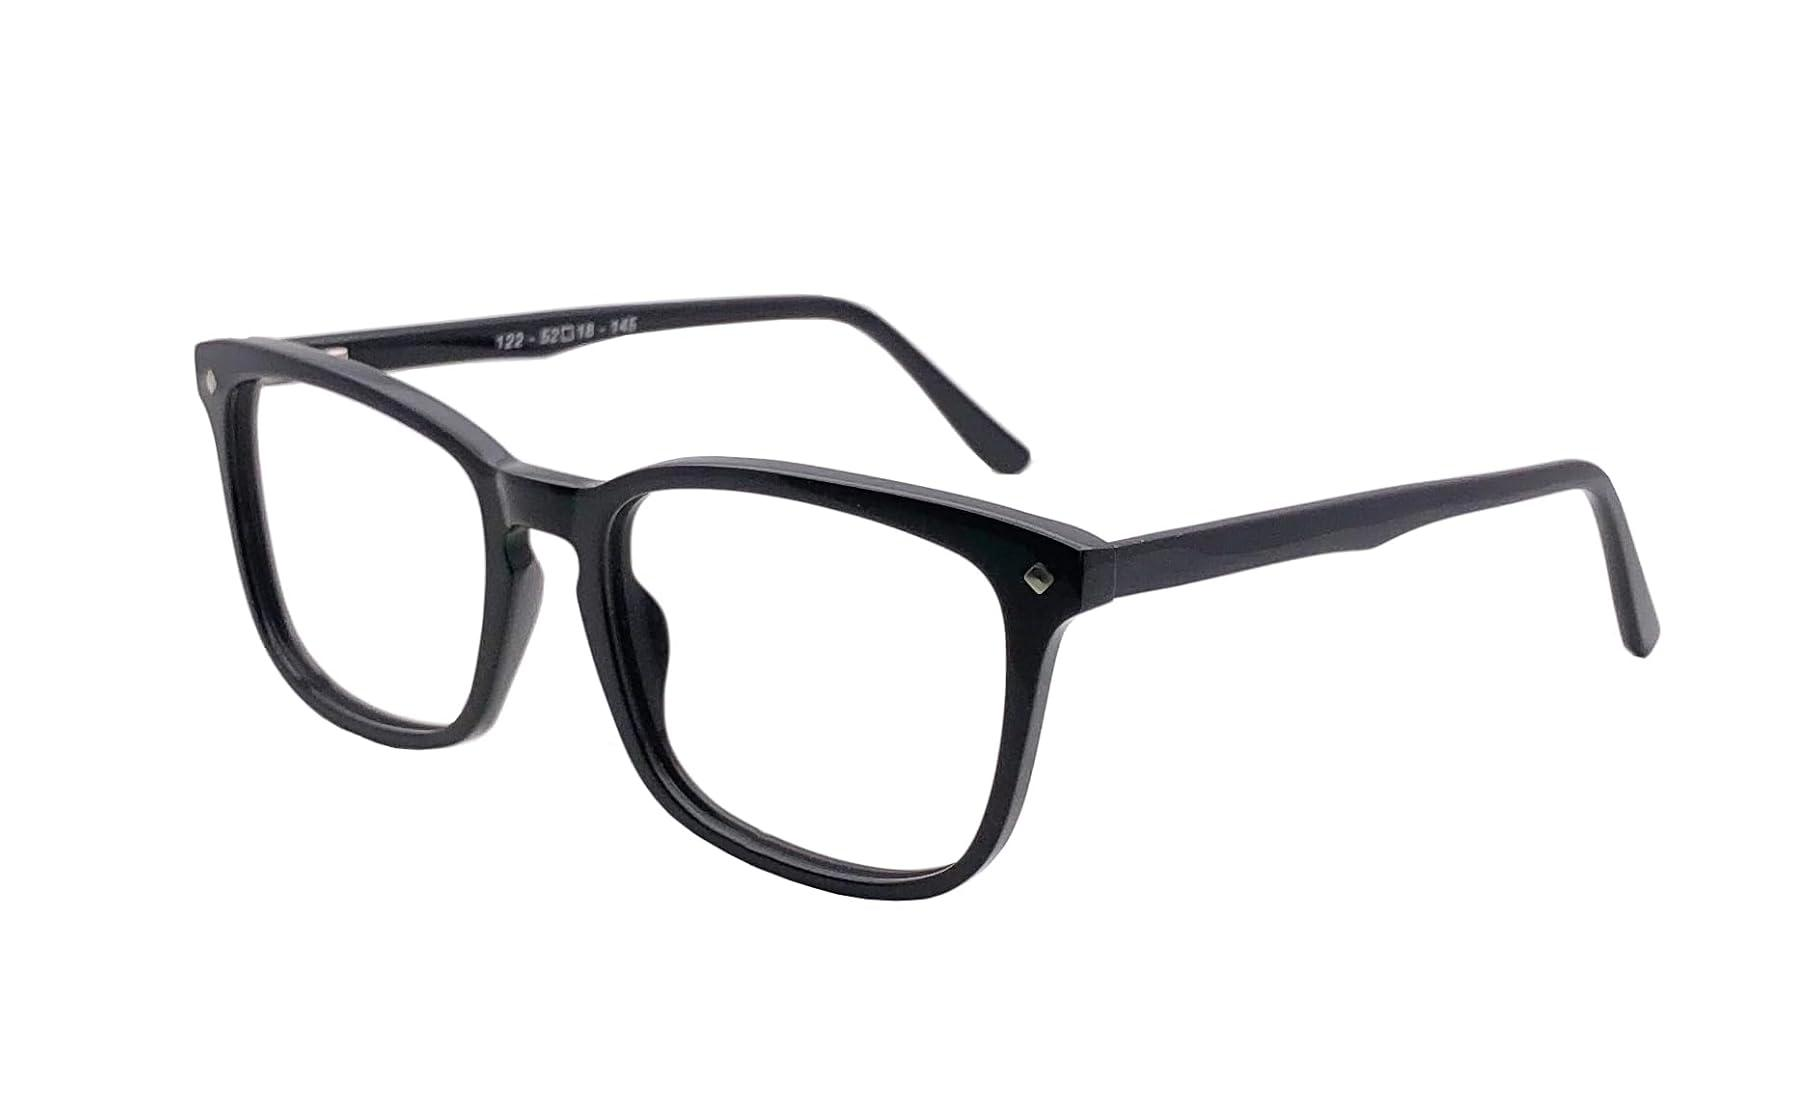spectacles: (170, 288, 1164, 943)
